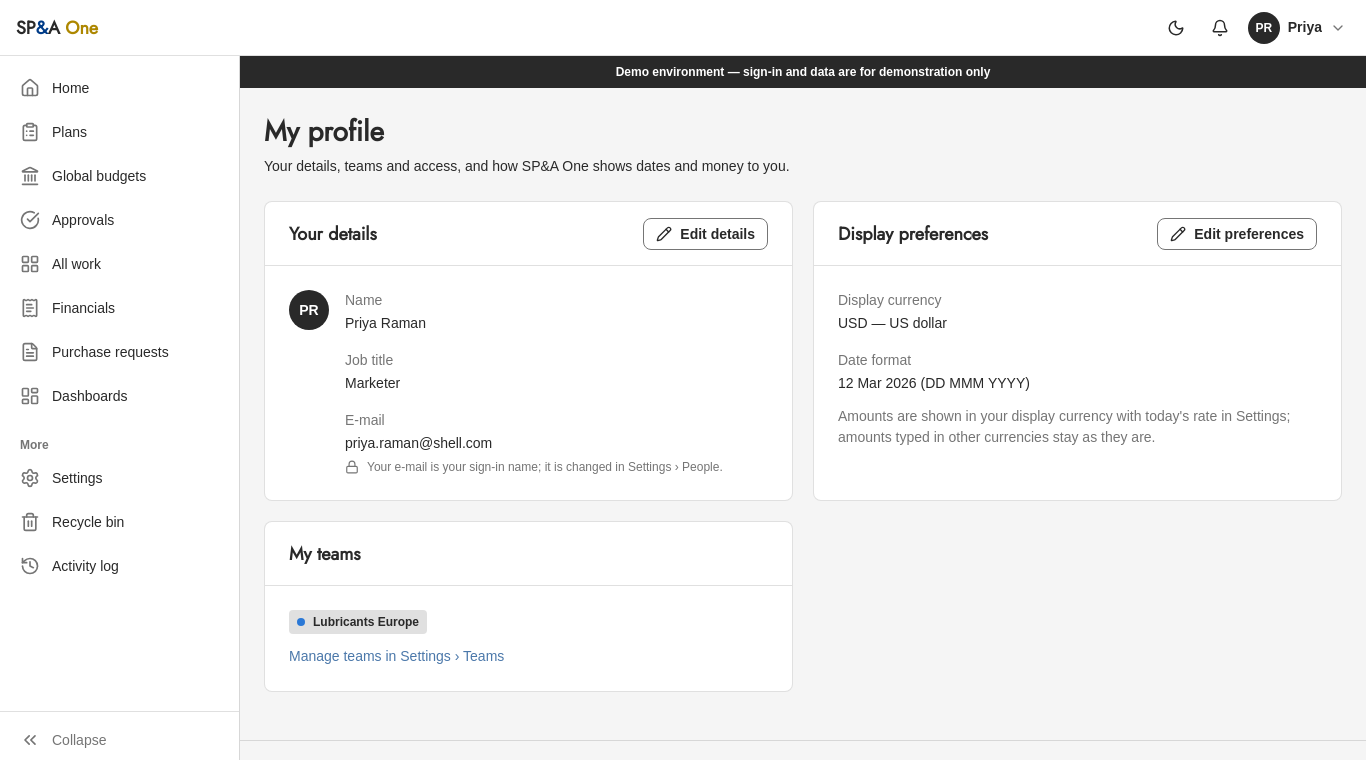
Test: People, teams and profile routes (feature 003) › shows a new name on the account button as soon as My profile saves it (US4-2)
The image size is (1366, 760).
Check: the button named "Priya — account menu" shows "PR", box [1244,8,1354,48]
Click the button "Edit details".
click(706, 234)  # box [643,218,768,250]
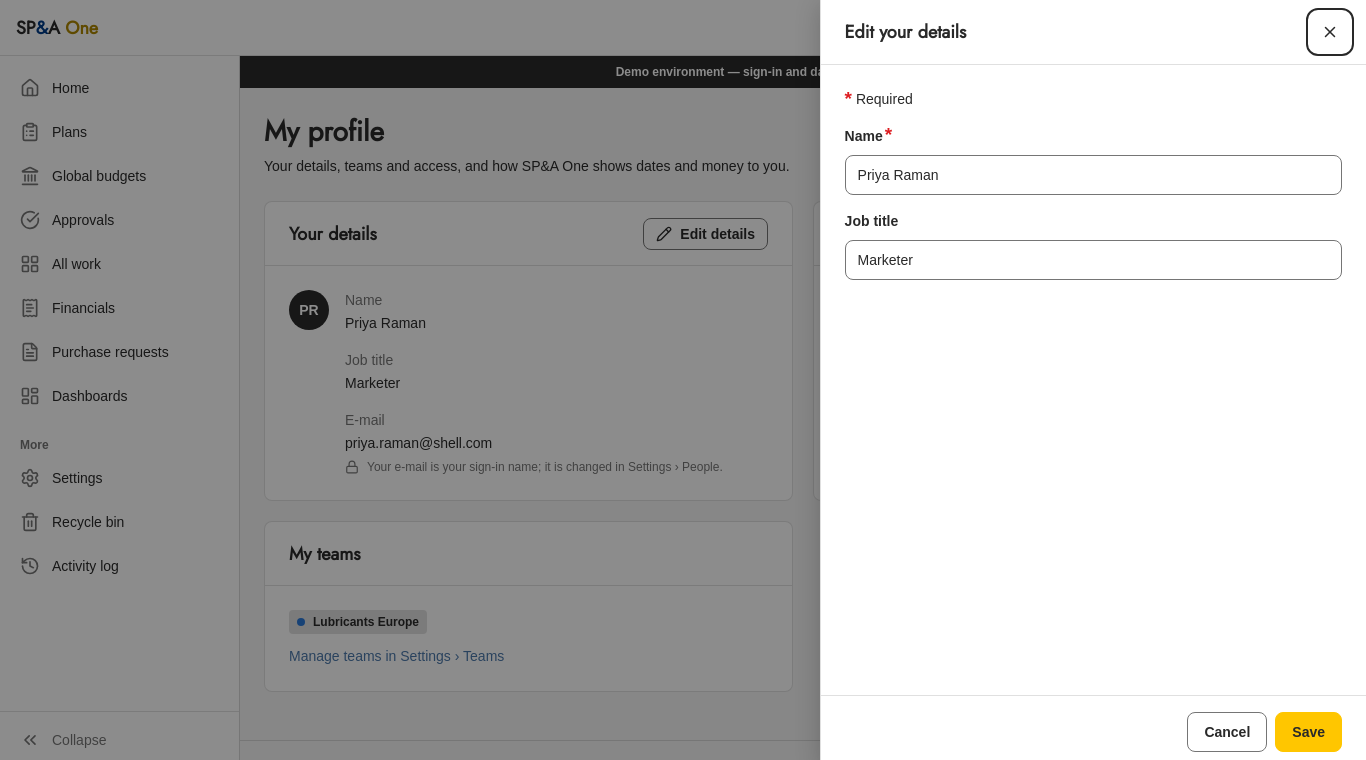
Replace the text in the field labelled "Name" with "Priya Iyer" at x=1093, y=175, box [845,155,1342,195]
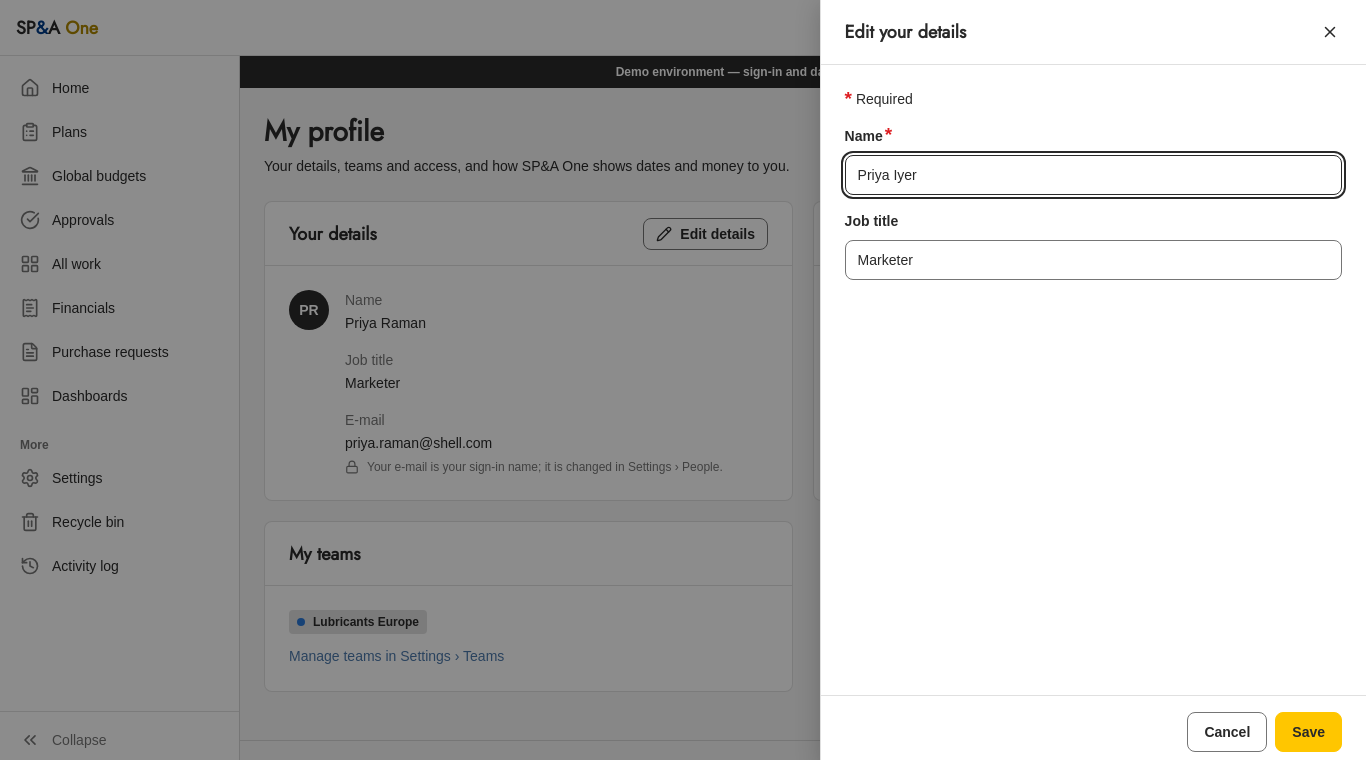
Click the button "Save".
click(1309, 732)  # box [1275,712,1342,752]
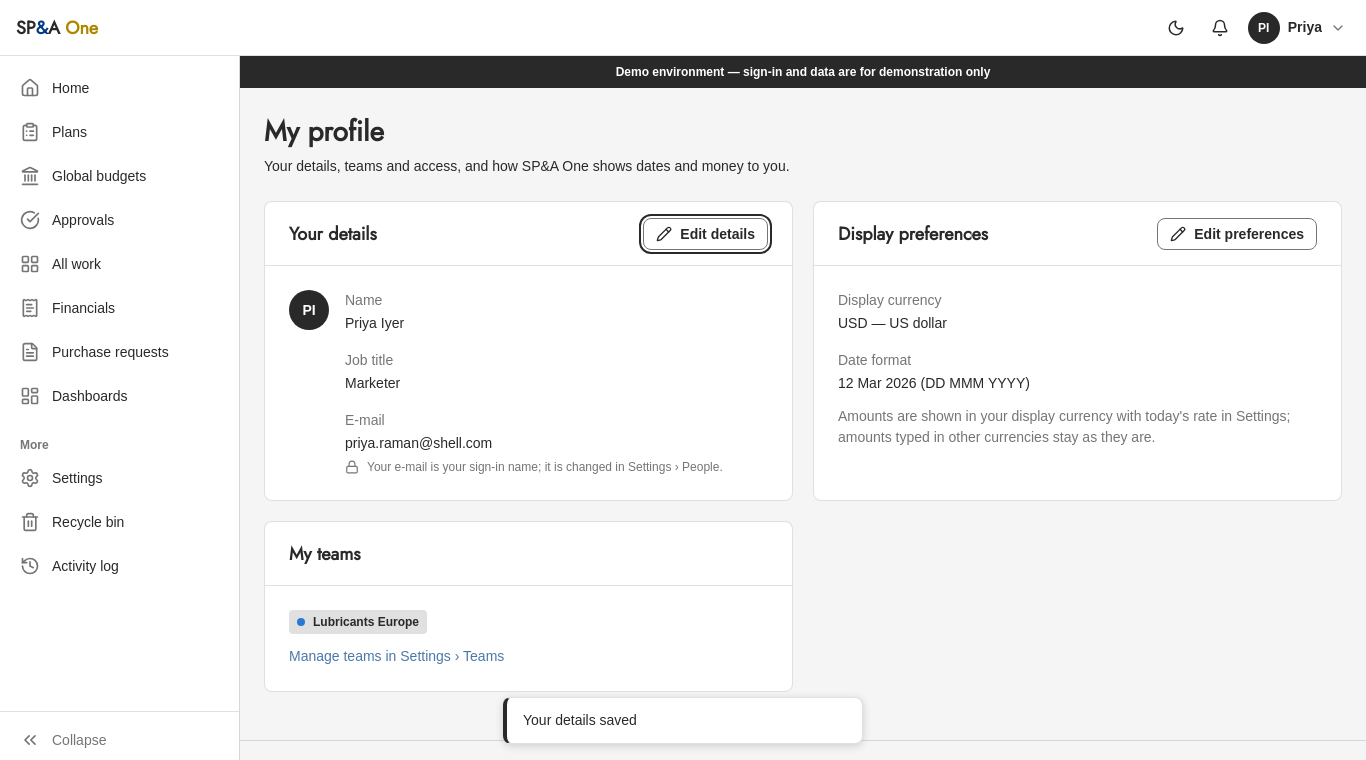
Check: the text "Your details saved" is shown, box [523,712,637,728]
Check: the heading "Edit your details" is gone
Check: the button named "Priya — account menu" shows "PI", box [1244,8,1354,48]
